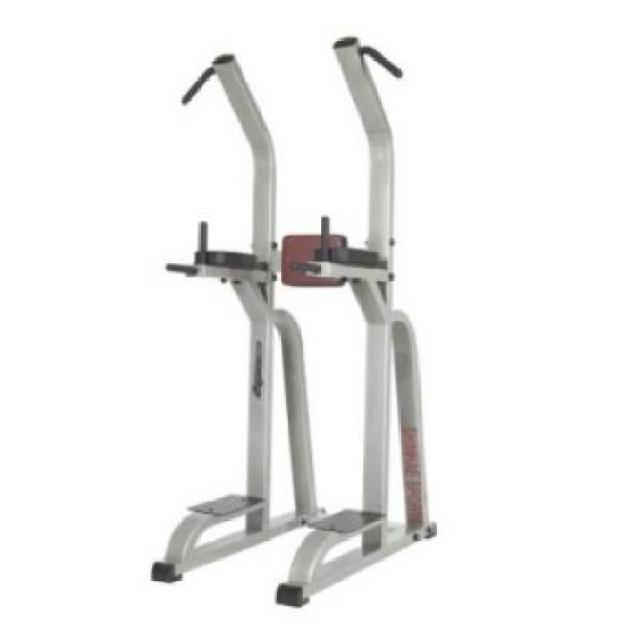chinning dipping: (150, 34, 442, 608)
